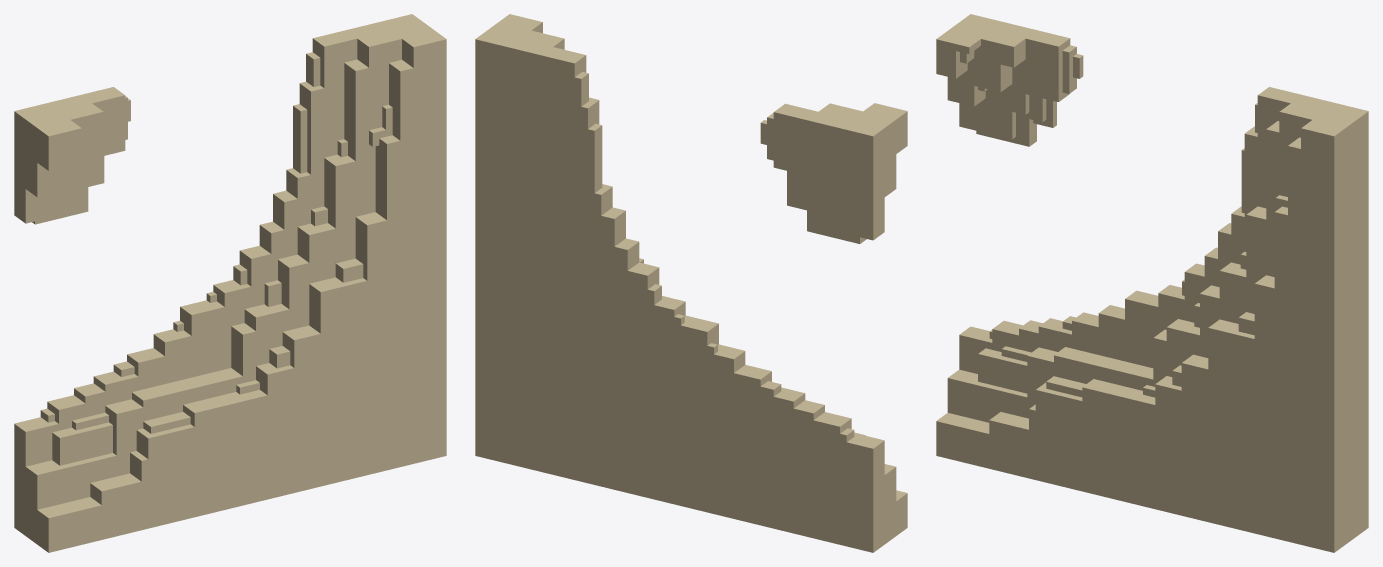
Rendered from corner 6x6 shallow.obj.
3 views of the same model, side by side, from view 1: azimuth 30°, elevation 25°; view 2: azimuth 150°, elevation 25°; view 3: azimuth 330°, elevation 25° (orthographic).
Size of the model in its own units: 60 by 60 by 9.
